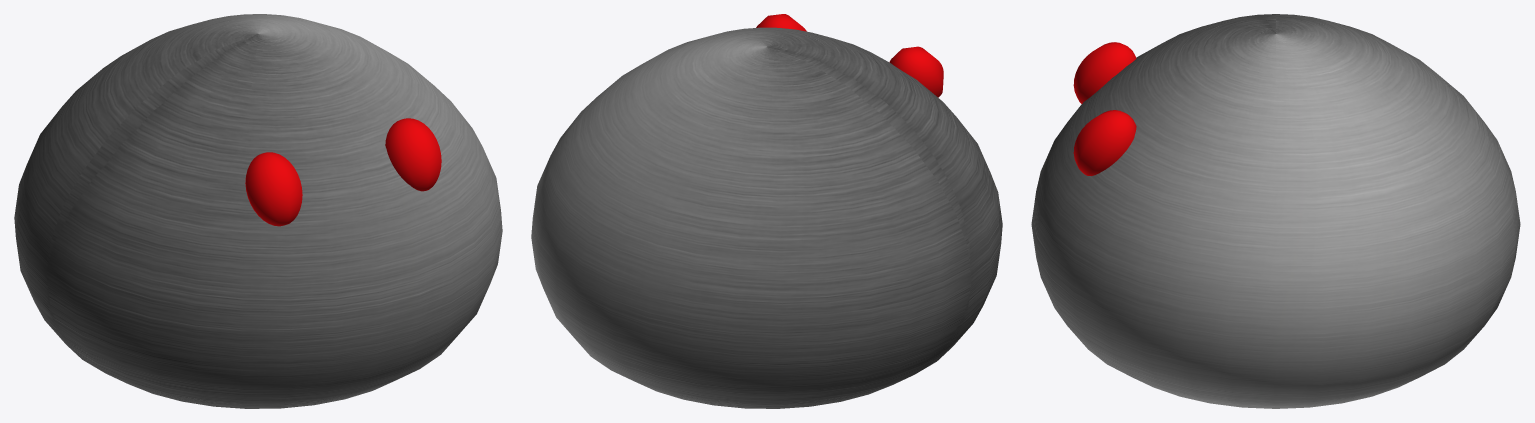
The model's file is SlimeEnemy.gltf.
3 renders of one model, left to right at view 1: azimuth 30°, elevation 25°; view 2: azimuth 150°, elevation 25°; view 3: azimuth 270°, elevation 25°, orthographic. The views are drawn at different scales.
Parts seen in each view (by area): view 1: M_Body, M_Eye; view 2: M_Body, M_Eye; view 3: M_Body, M_Eye.
Boxes of the visible parts, x1,y1,x2,y2 form: M_Body: [14, 14, 502, 408]; M_Eye: [245, 118, 441, 226]; M_Body: [531, 27, 1002, 408]; M_Eye: [756, 14, 943, 97]; M_Body: [1031, 14, 1520, 408]; M_Eye: [1073, 42, 1136, 175].
Size of the model in its own units: 2 by 1.43 by 2.
2 materials, 1 textured.
